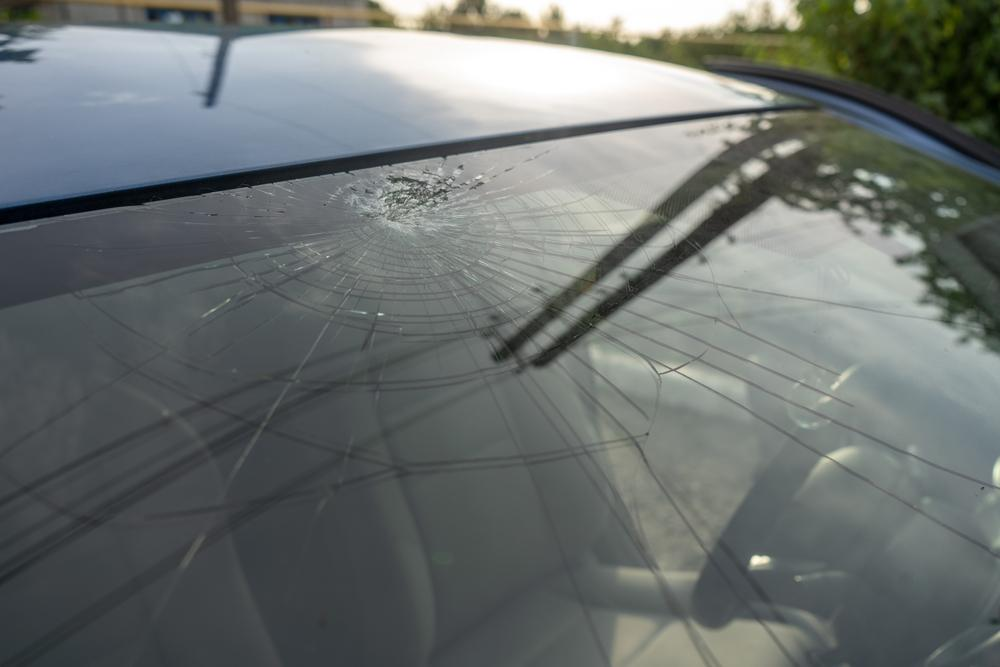glass shatter: (0, 104, 1000, 667)
